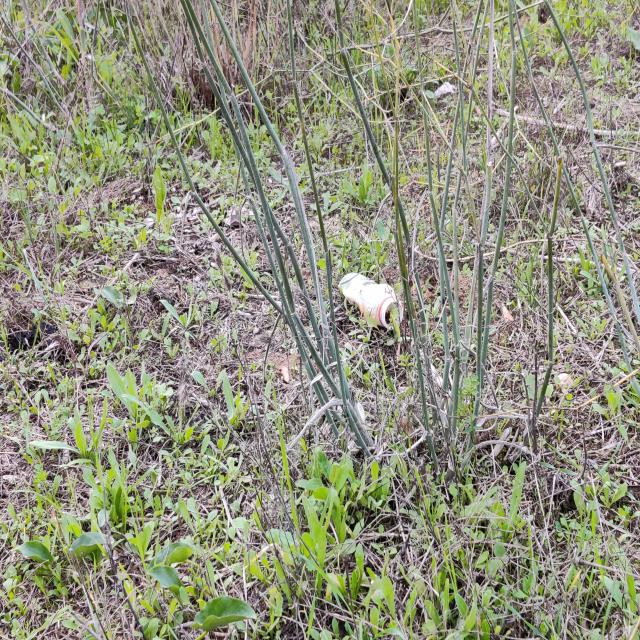litter: (329, 249, 426, 337)
